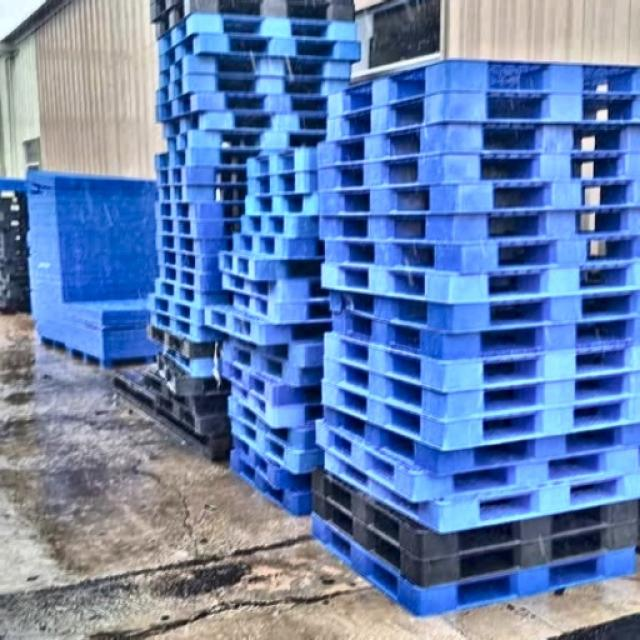non-igps: (301, 508, 640, 624), (306, 483, 640, 598), (307, 462, 640, 568), (310, 412, 640, 510), (319, 446, 640, 539), (314, 375, 640, 456), (318, 350, 640, 430), (319, 402, 640, 482), (322, 52, 640, 125), (320, 328, 640, 400), (325, 304, 640, 369), (311, 114, 640, 174), (320, 85, 640, 146), (314, 196, 640, 253), (316, 255, 640, 312), (310, 144, 640, 199), (324, 285, 640, 341), (313, 170, 640, 222), (320, 228, 640, 280), (104, 360, 238, 470), (153, 6, 367, 60), (154, 26, 366, 77), (154, 44, 356, 94), (151, 0, 361, 45), (152, 67, 356, 112), (157, 104, 332, 144), (224, 390, 329, 456), (226, 446, 316, 522), (226, 415, 328, 480), (217, 338, 330, 394), (217, 354, 327, 411), (162, 122, 331, 158), (229, 430, 318, 497), (228, 376, 327, 432), (201, 298, 297, 351), (152, 142, 299, 176), (224, 326, 328, 374), (218, 265, 334, 306), (229, 288, 338, 329), (148, 302, 234, 348), (241, 140, 324, 183), (231, 229, 329, 265), (144, 320, 223, 364), (152, 274, 238, 314), (237, 207, 331, 243), (152, 160, 253, 193), (214, 248, 297, 288), (241, 186, 325, 224), (242, 164, 322, 202), (154, 177, 252, 208), (157, 338, 223, 383), (153, 240, 227, 280), (150, 196, 248, 226), (152, 214, 246, 244), (143, 290, 211, 331), (152, 228, 238, 260), (156, 259, 230, 295), (142, 0, 186, 27)
